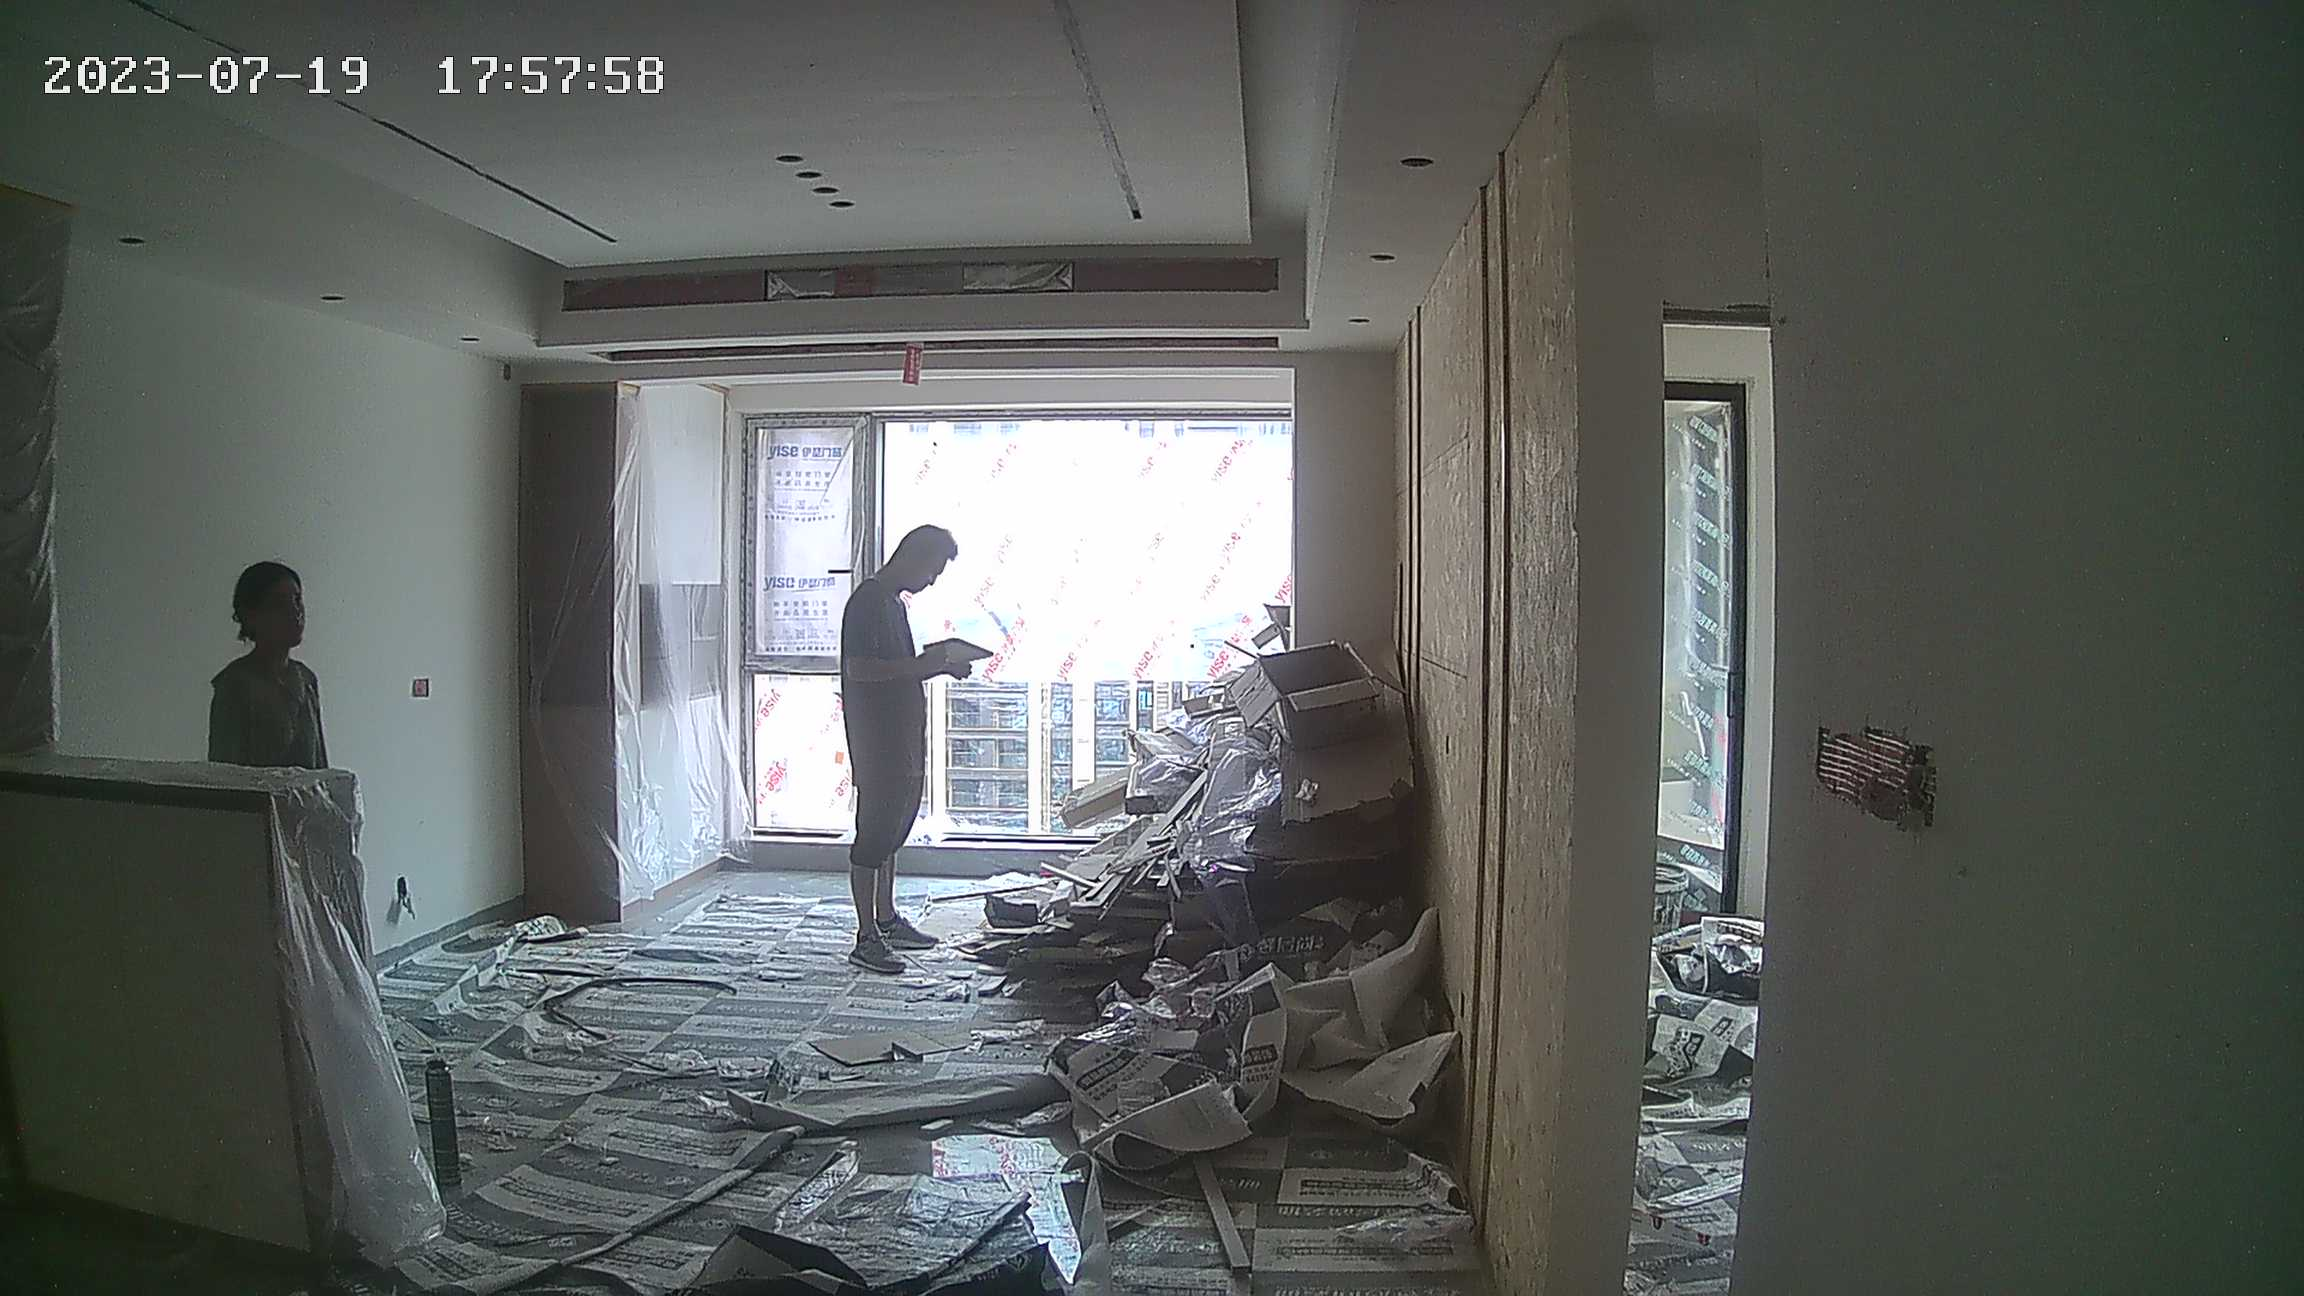people: (843, 519, 964, 979), (213, 565, 342, 768)
window: (742, 413, 1302, 873), (1662, 405, 1731, 915)
